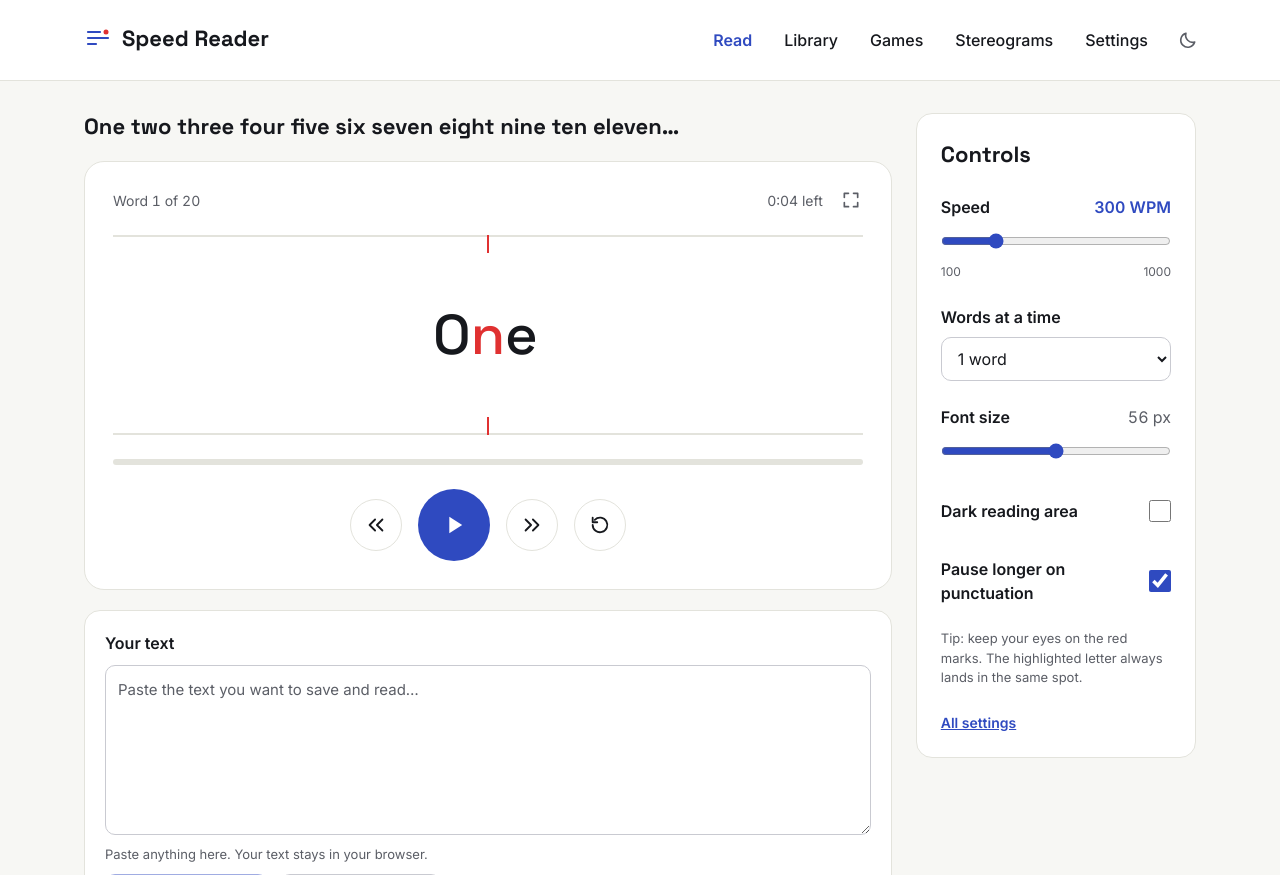
Scenario: reader › has buttons for the same moves
What coordinates should you click on to do the following:
click the button named "Forward 10 words"
I would click on:
 (532, 524)
Its box is [506,498,558,550].
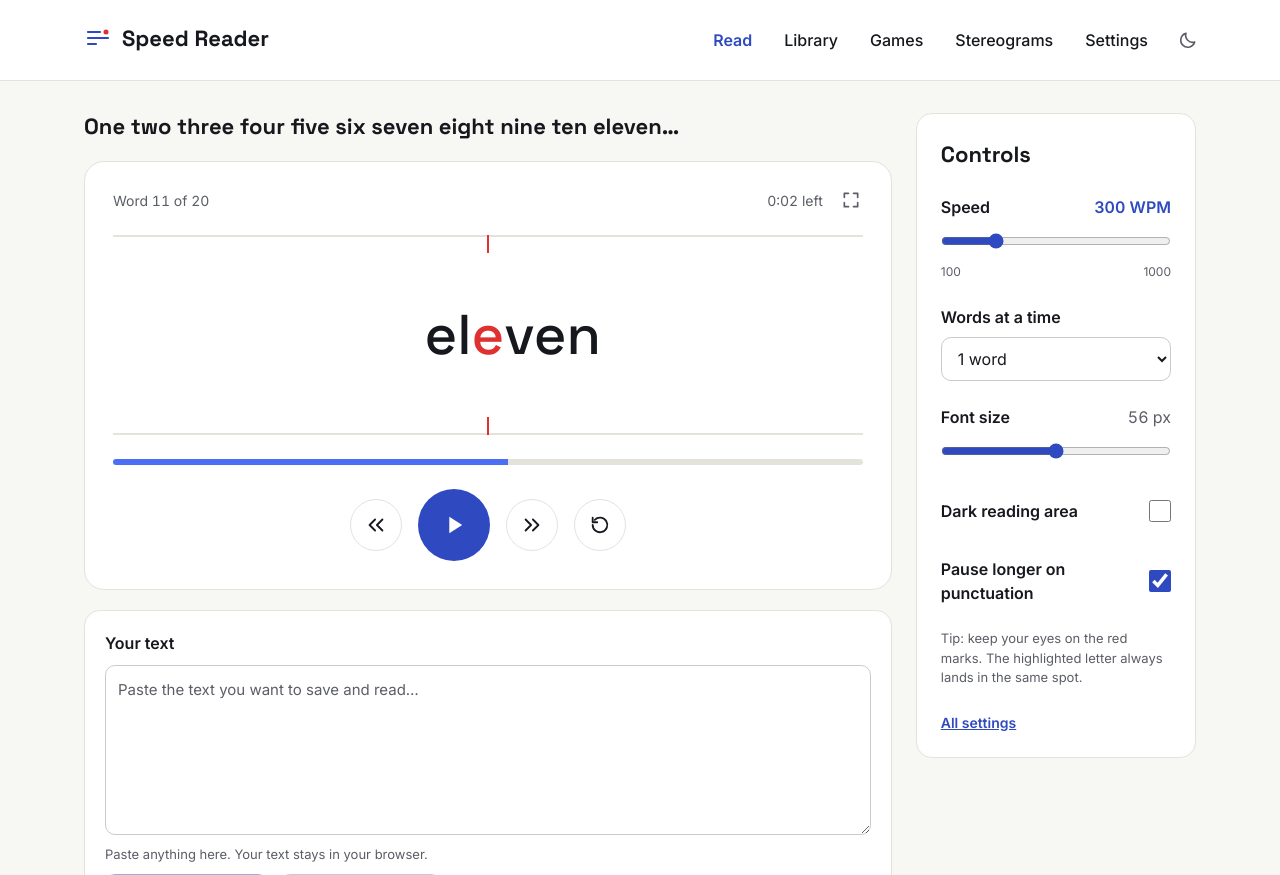
expect the element with test id "stage-word" reads "el e ven": met, box [424,299,601,370]
What coordinates should you click on to do the following:
click the button named "Back 10 words"
I would click on:
 (376, 524)
Its box is [350,498,402,550].
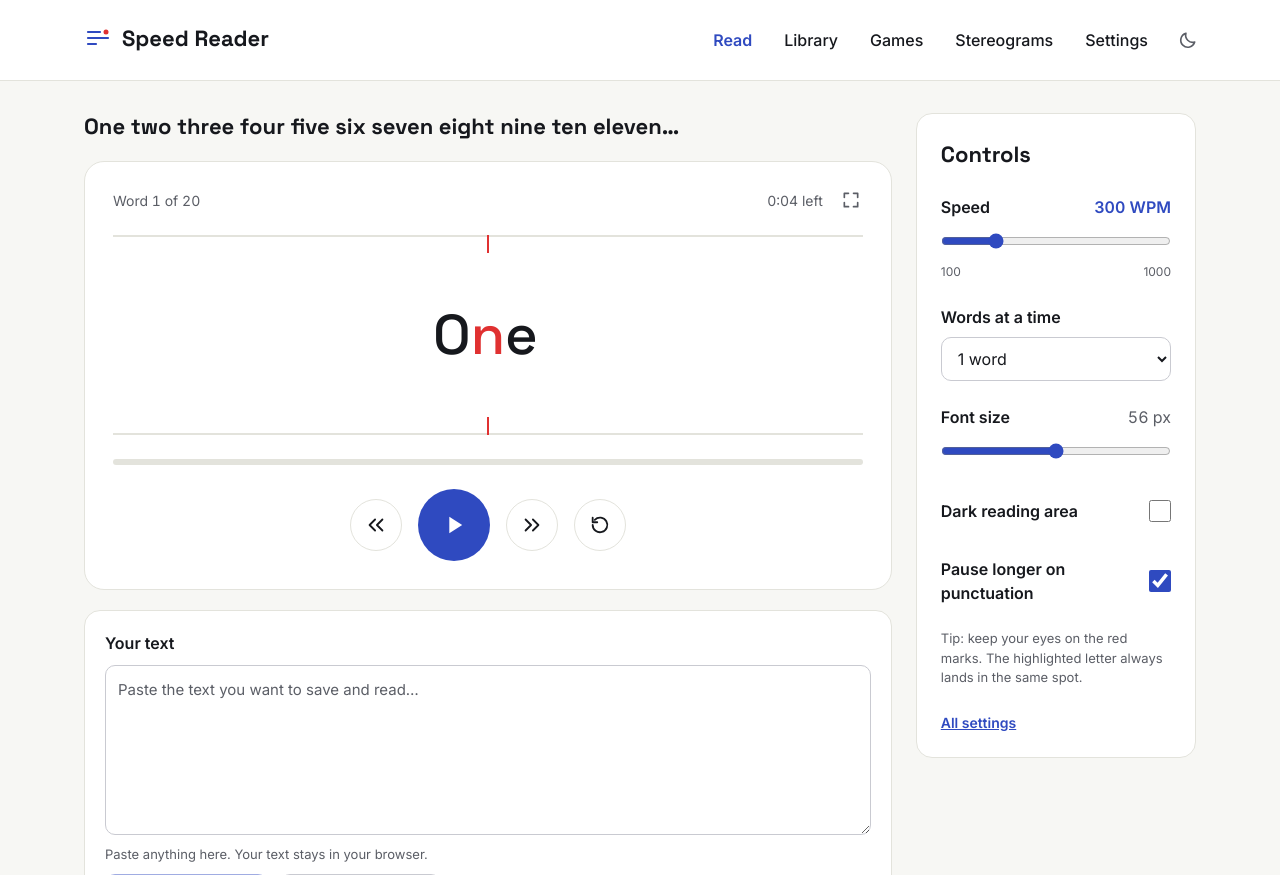
expect the element with test id "stage-word" reads "O n e": met, box [433,299,538,370]
What coordinates should you click on to do the following:
click the button named "Forward 10 words"
I would click on:
 (532, 524)
Its box is [506,498,558,550].
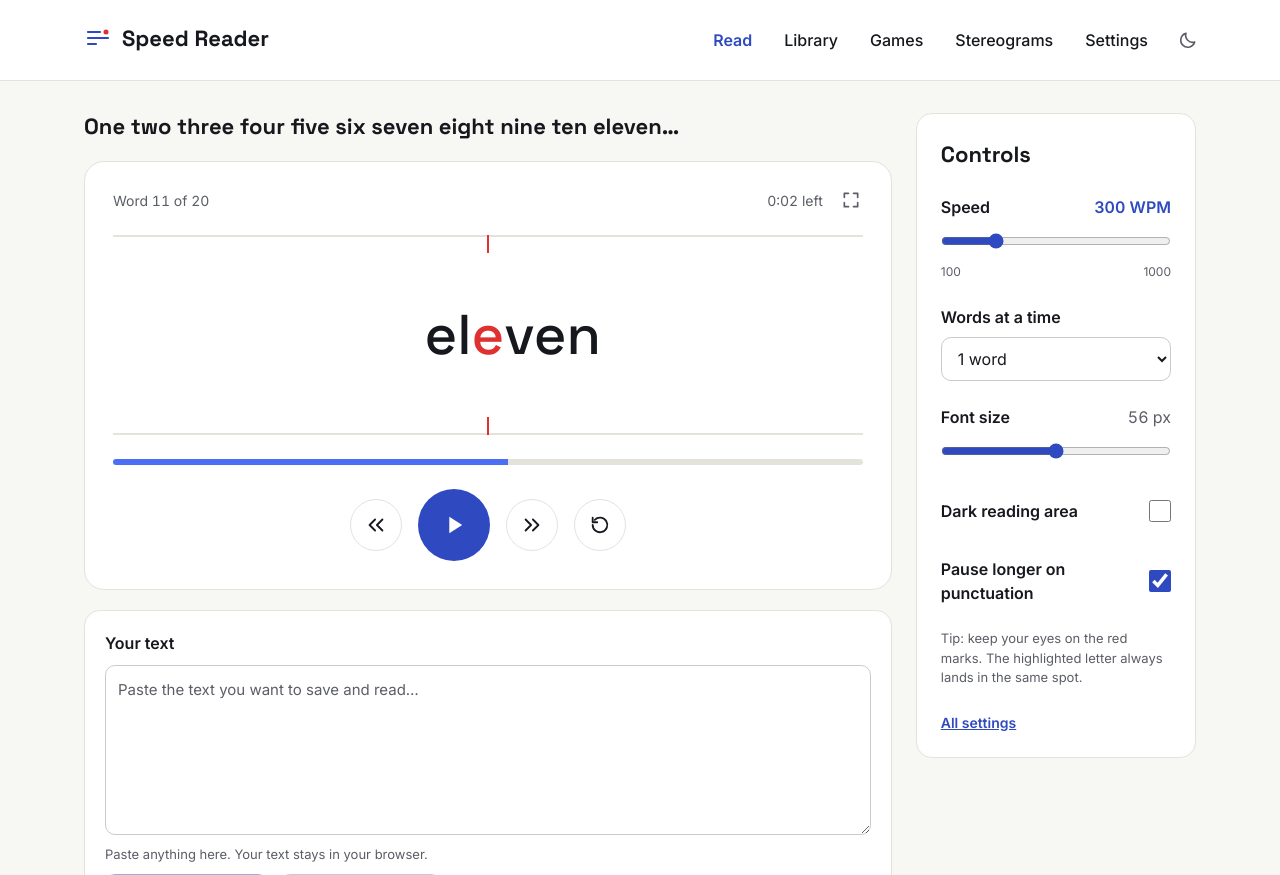
What coordinates should you click on to do the following:
click the button named "Restart"
I would click on:
 (600, 524)
Its box is [574,498,626,550].
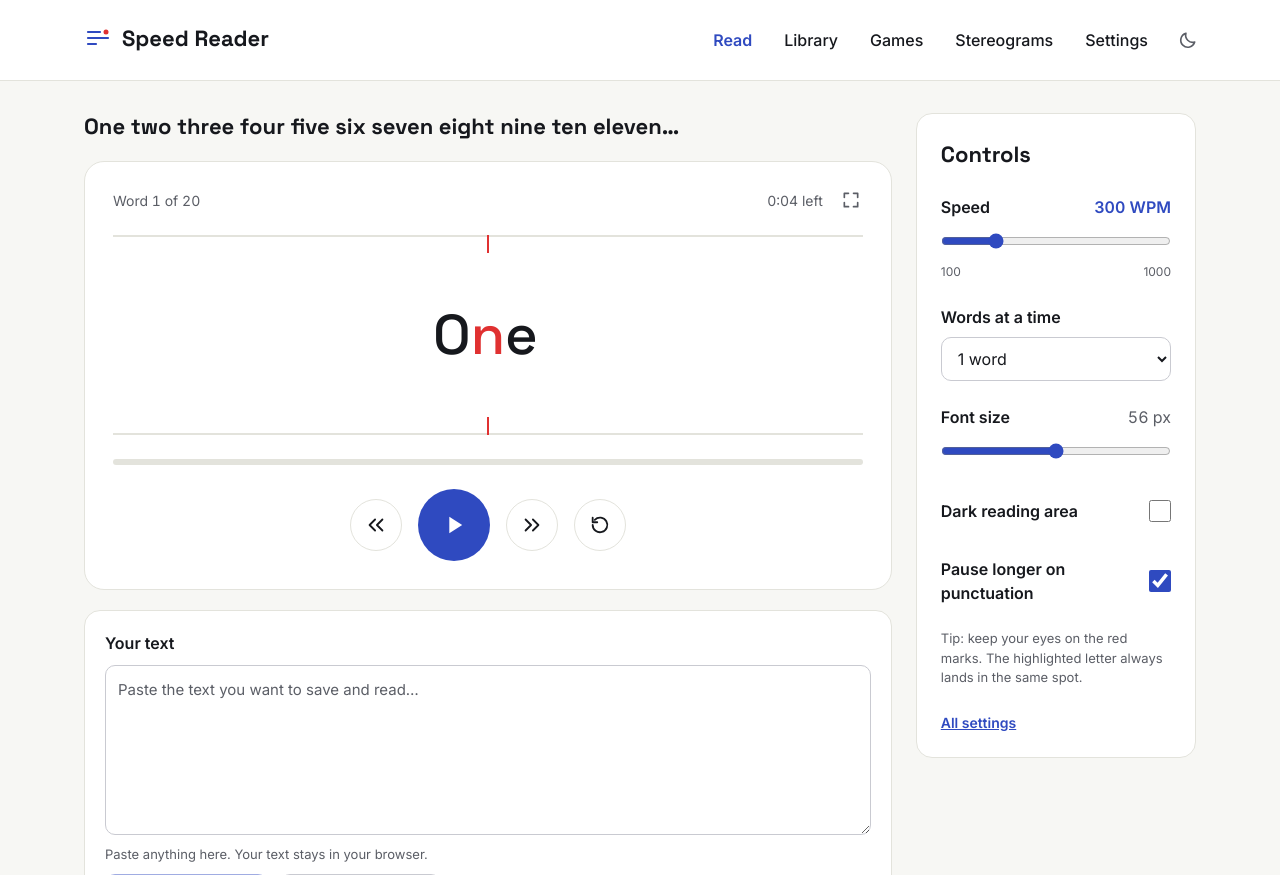
expect the element with test id "stage-word" reads "O n e": met, box [433,299,538,370]
What coordinates should you click on to do the following:
click the button named "Play"
I would click on:
 (454, 524)
Its box is [418,488,490,560].
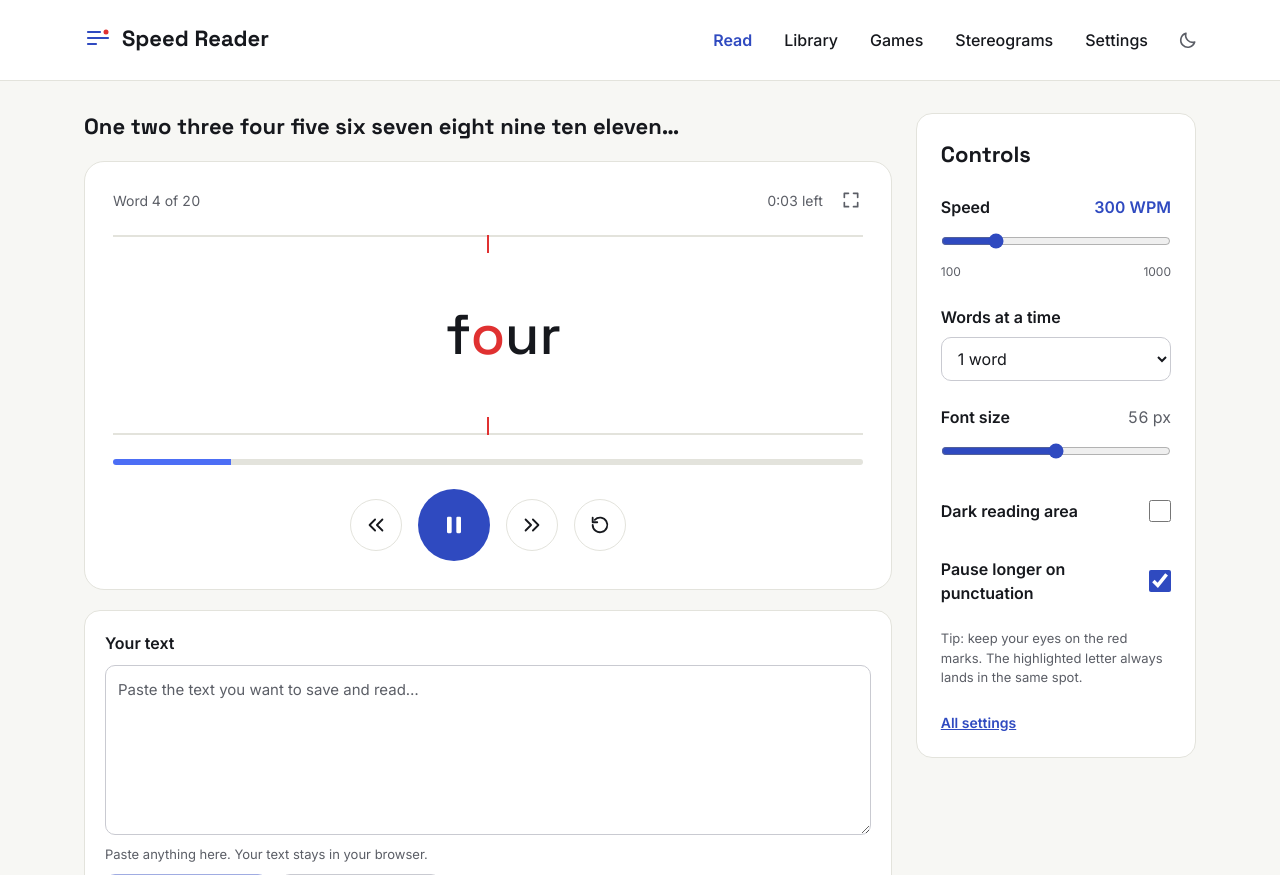
expect the button named "Pause" is shown: met, box [418,488,490,560]
